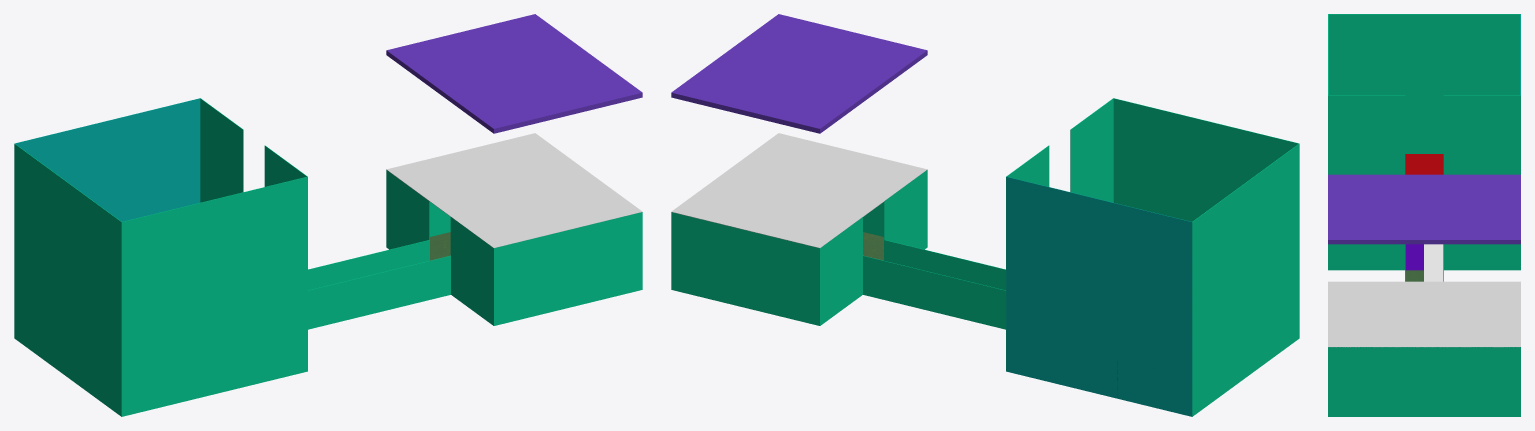
The model's file is walls.glb.
The picture shows the model from 3 angles, left to right: view 1: azimuth 30°, elevation 25°; view 2: azimuth 150°, elevation 25°; view 3: azimuth 270°, elevation 25°; orthographic projection. The views are drawn at different scales.
Visible parts, largest first — view 1: Cube.018, Cube.015, Cube.006, Cube.001, Cube.014, Cube.005, Cube.008, Cube.012, Cube.009, Cube.007, Cube.002, Cube.016 (+1 smaller); view 2: Cube.014, Cube.015, Cube.006, Cube.001, Cube.018, Cube.003, Cube.002, Cube.016, Cube.007, Cube.009, Cube.008, Cube.012 (+1 smaller); view 3: Cube.015, Cube.006, Cube.004, Cube.001, Cube.012, Cube.016, FloorBaseGrass_01.002, Cube, FloorBaseGrass_01.006, FloorBaseGrass_01.
Part boxes in pixels (x1,y1,x2,y2): Cube.018: (121,176,307,416); Cube.015: (14,143,121,416); Cube.006: (386,14,642,133); Cube.001: (386,133,642,247); Cube.014: (15,98,200,221); Cube.005: (493,212,642,325); Cube.008: (308,255,450,329); Cube.012: (200,98,243,202); Cube.009: (450,217,493,325); Cube.007: (386,170,429,260); Cube.002: (308,240,429,290); Cube.016: (264,145,307,371); Cube.014: (1006,176,1192,416); Cube.015: (1192,143,1299,416); Cube.006: (671,14,927,133); Cube.001: (671,133,927,248); Cube.018: (1113,98,1298,221); Cube.003: (671,212,819,325); Cube.002: (863,255,1005,329); Cube.016: (1070,98,1113,202); Cube.007: (819,217,862,325); Cube.009: (884,170,927,260); Cube.008: (884,240,1005,290); Cube.012: (1006,145,1049,371); Cube.015: (1328,14,1520,153); Cube.006: (1328,174,1520,244); Cube.004: (1328,347,1520,416); Cube.001: (1328,281,1520,347); Cube.012: (1443,95,1520,270); Cube.016: (1328,95,1405,270); FloorBaseGrass_01.002: (1405,154,1443,174); Cube: (1424,244,1443,281); FloorBaseGrass_01.006: (1405,244,1443,270); FloorBaseGrass_01: (1405,270,1443,281).
Size of what is drawn, in the model's own units: 224 by 81.25 by 80.
Materials: 28 (2 with a texture image).
